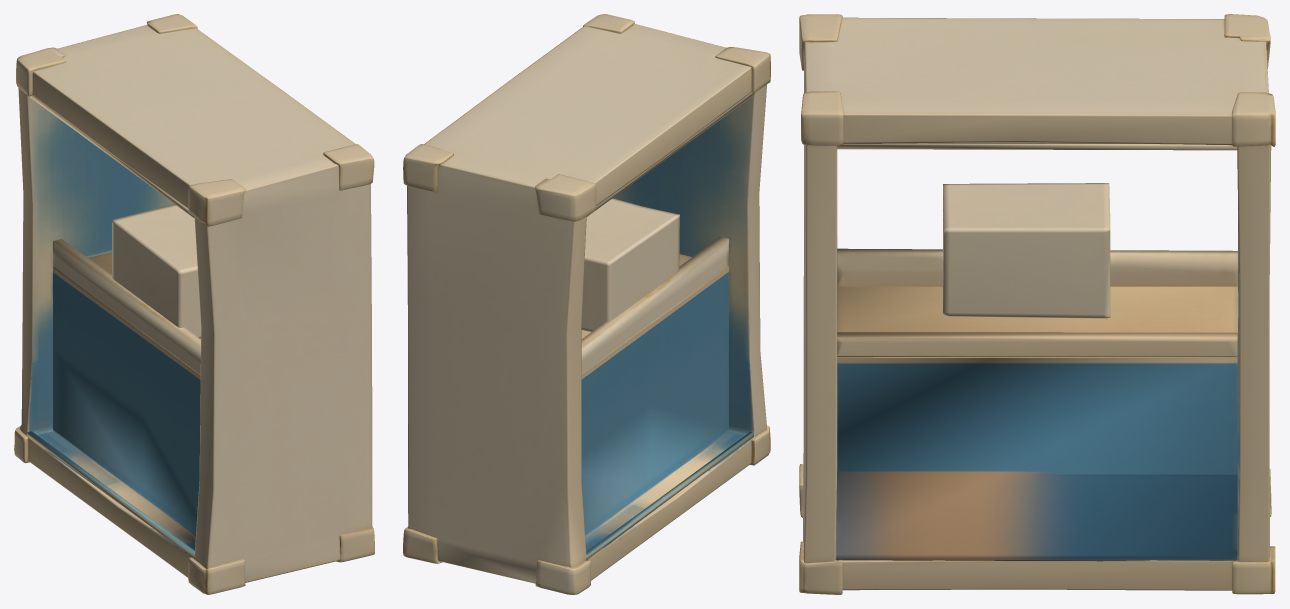
The picture shows the model from 3 angles, left to right: view 1: azimuth 30°, elevation 25°; view 2: azimuth 150°, elevation 25°; view 3: azimuth 270°, elevation 25°; orthographic projection. The views are drawn at different scales.
Visible parts, largest first — view 1: tripo_node_8d6b0773-8f8e-438c-ab98-6199337a2cca; view 2: tripo_node_8d6b0773-8f8e-438c-ab98-6199337a2cca; view 3: tripo_node_8d6b0773-8f8e-438c-ab98-6199337a2cca.
Boxes of the visible parts, <box> form: tripo_node_8d6b0773-8f8e-438c-ab98-6199337a2cca: <box>14,14,374,594</box>; tripo_node_8d6b0773-8f8e-438c-ab98-6199337a2cca: <box>403,14,770,594</box>; tripo_node_8d6b0773-8f8e-438c-ab98-6199337a2cca: <box>799,14,1275,594</box>.
Size of the model in its own units: 0.4526 by 0.9995 by 0.894.
Materials: 1 (1 with a texture image).
